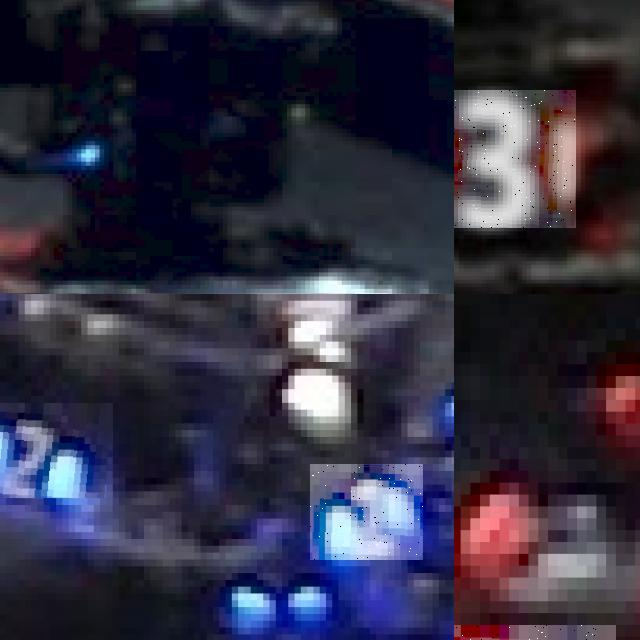B2: (310, 464, 423, 560), (0, 402, 112, 498)
R3: (454, 90, 576, 227)
